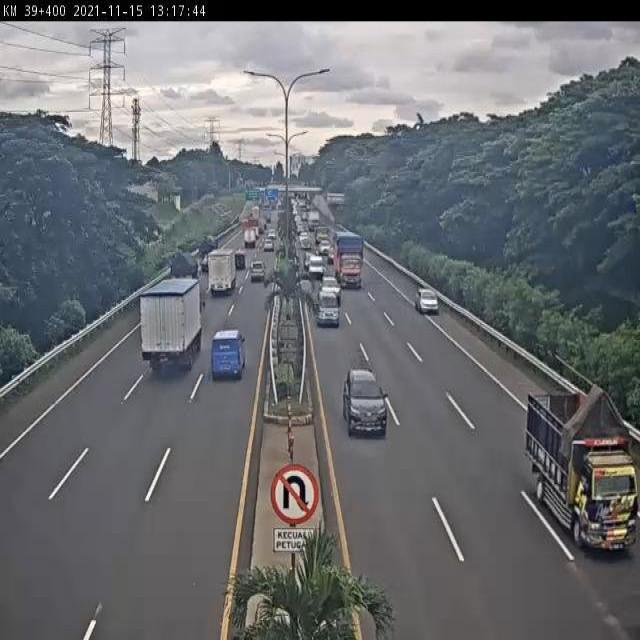car: (341, 364, 390, 439), (316, 290, 340, 330), (413, 284, 441, 317), (320, 274, 343, 302), (247, 260, 269, 284)
small truck: (209, 327, 248, 384)
truck-m-: (528, 380, 640, 569), (134, 277, 198, 367), (335, 230, 364, 290), (208, 251, 239, 293), (169, 252, 200, 280)
